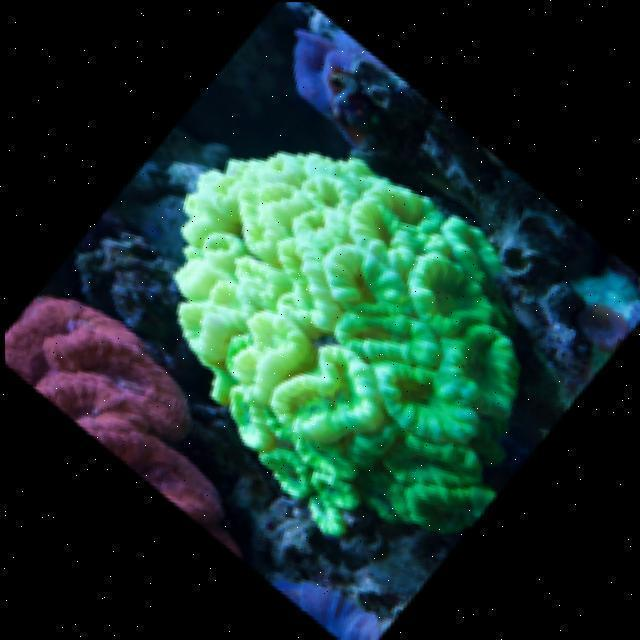Healthy Coral: (175, 154, 515, 484), (5, 296, 223, 523)
